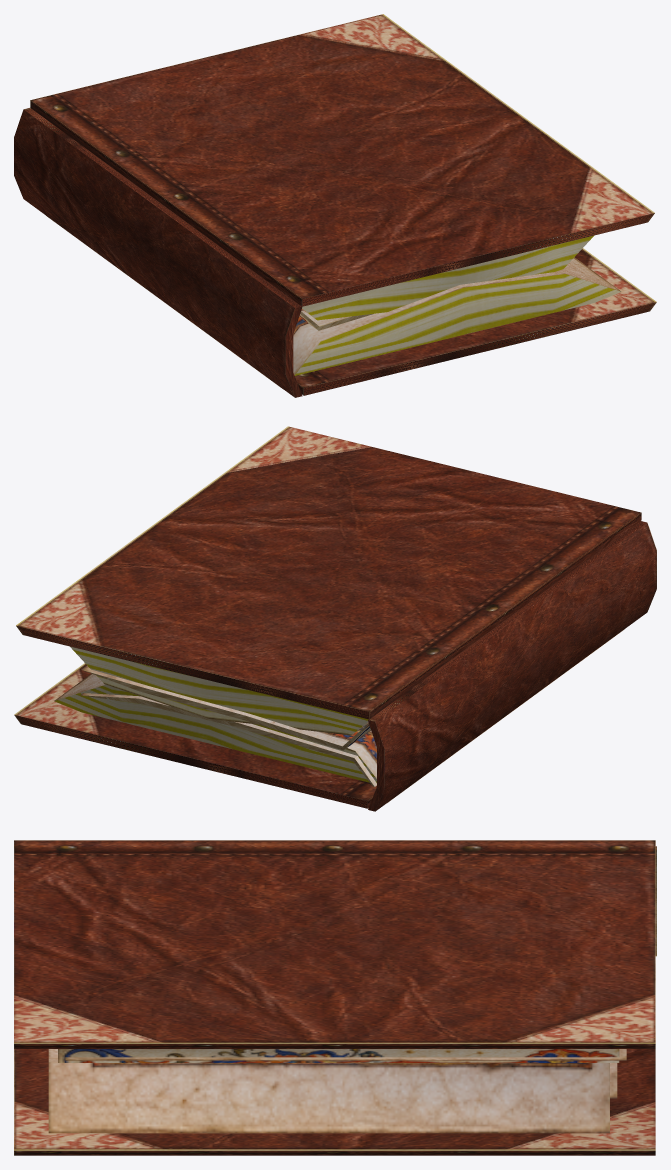
The model's file is mm9_deco_bookflat.glb.
3 renders of one model, top to bottom at view 1: azimuth 30°, elevation 25°; view 2: azimuth 150°, elevation 25°; view 3: azimuth 270°, elevation 25°, orthographic. The views are drawn at different scales.
Parts seen in each view (by area): view 1: Bookflat; view 2: Bookflat; view 3: Bookflat.
Part boxes in pixels (<box>): Bookflat: <box>14,14,656,397</box>; Bookflat: <box>14,426,656,811</box>; Bookflat: <box>14,840,656,1155</box>.
Size of the model in its own units: 0.3948 by 0.1051 by 0.5024.
Materials: 1 (1 with a texture image).
